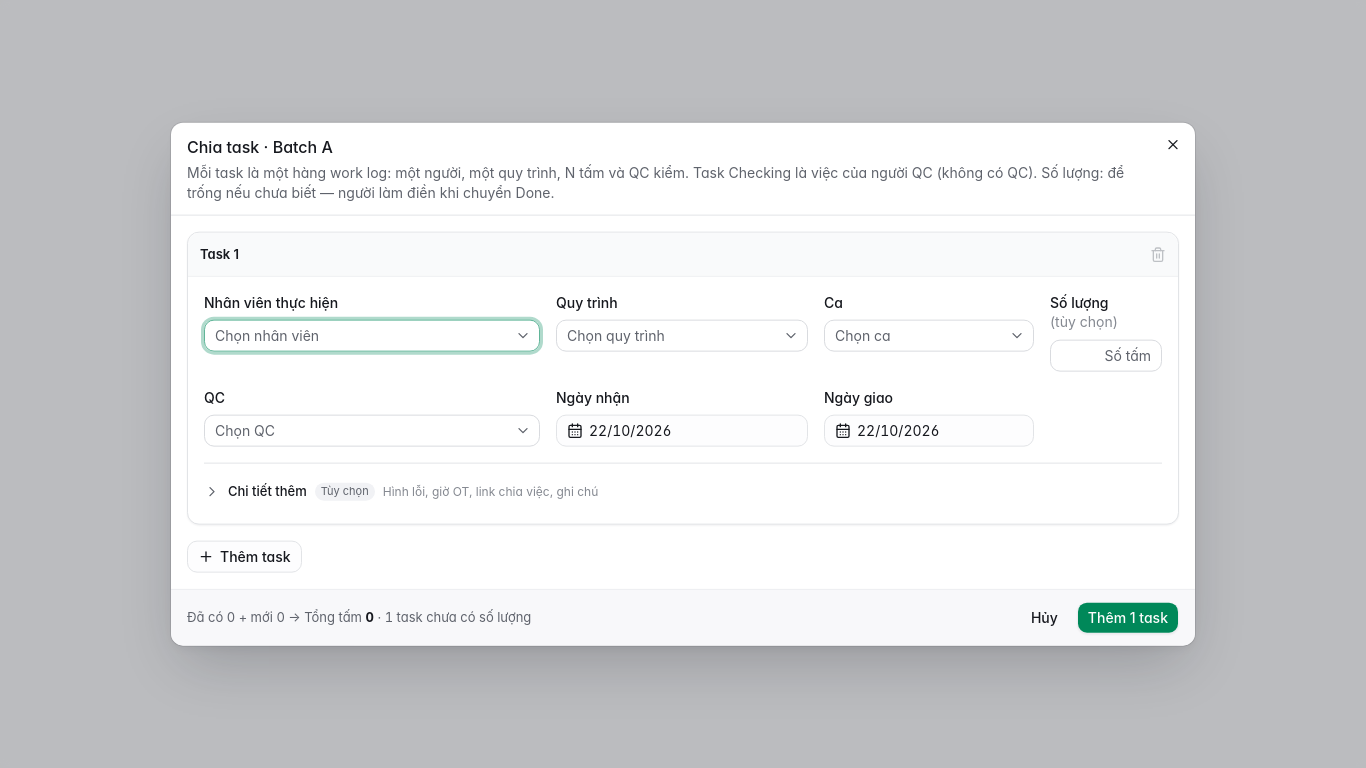
SplitTasksDialog — team load (PD-080) › without team load the dialog still works (names only, no suggestions)
What coordinates should you click on to do the following:
click the dropdown named "Nhân viên thực hiện"
I would click on:
 (267, 335)
Its box is left=204, top=320, right=540, bottom=352.
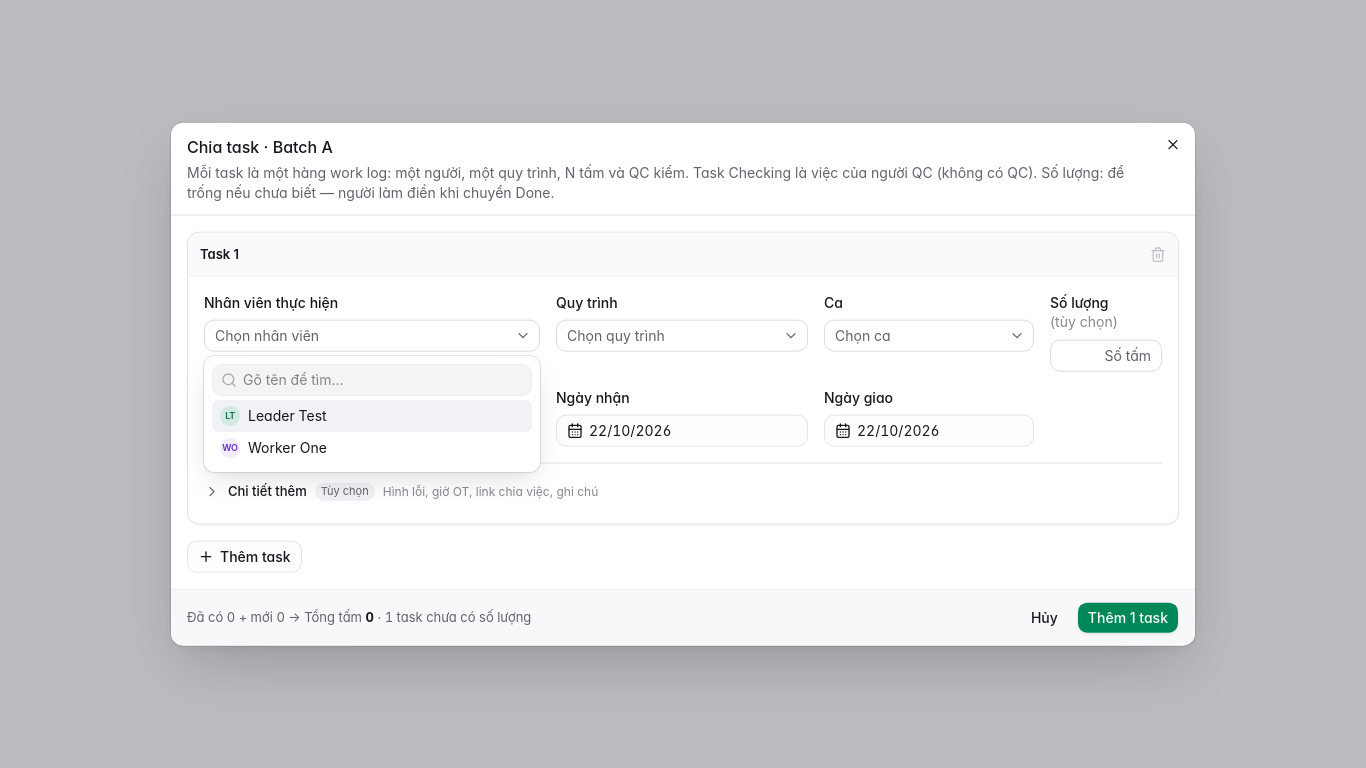
What coordinates should you click on to do the following:
click the option "WO Worker One"
I would click on:
 (273, 448)
Its box is left=220, top=438, right=327, bottom=458.
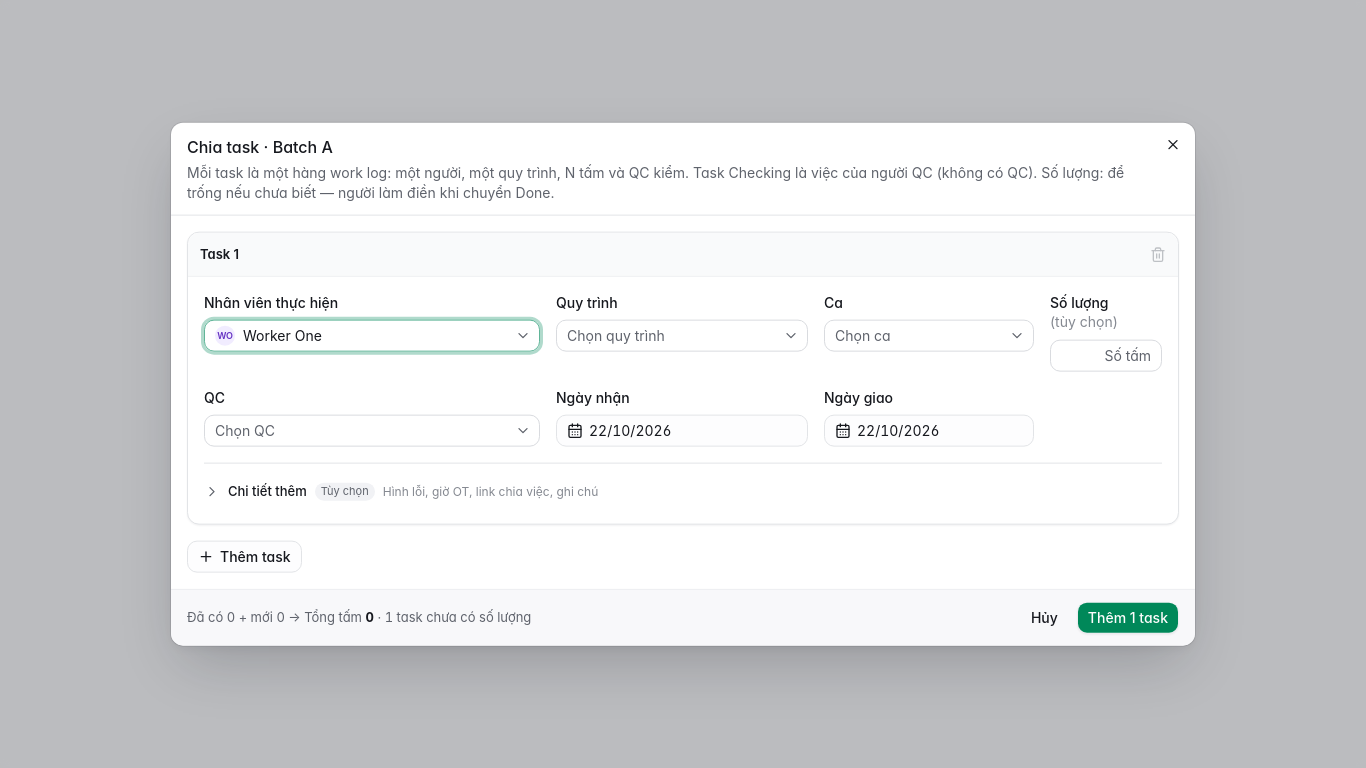
Check: the dropdown named "Nhân viên thực hiện" shows "Worker One", box left=204, top=320, right=540, bottom=352
